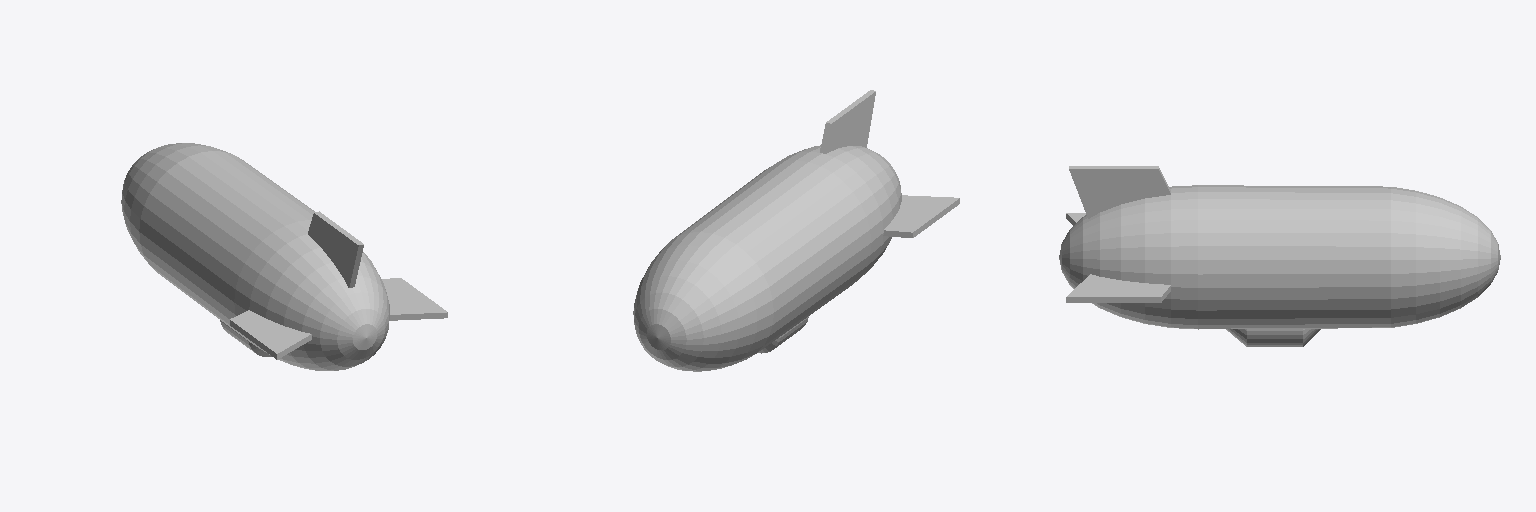
File: blimp.obj
3 renders of one model, left to right at view 1: azimuth 30°, elevation 25°; view 2: azimuth 150°, elevation 25°; view 3: azimuth 270°, elevation 25°, orthographic.
Visible parts, largest first — view 1: Cylinder, Cube, Cube.001, Cube.002; view 2: Cylinder, Cube, Cube.001; view 3: Cylinder, Cube, Cube.002, Cylinder.001.
Part boxes in pixels (x1,y1,x2,y2): Cylinder: (121,143,389,370); Cube: (308,211,363,287); Cube.001: (230,310,311,359); Cube.002: (382,278,447,320); Cylinder: (633,145,901,371); Cube: (820,90,875,153); Cube.001: (883,195,959,237); Cylinder: (1059,185,1500,329); Cube: (1069,166,1170,218); Cube.002: (1066,274,1170,302); Cylinder.001: (1226,329,1320,346).
Size of the model in its own units: 2.74 by 2.7 by 6.12.